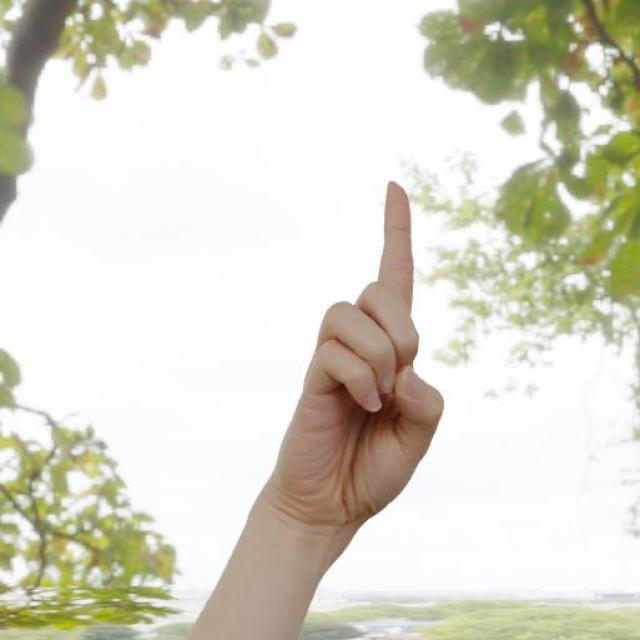D: (247, 177, 448, 528)
